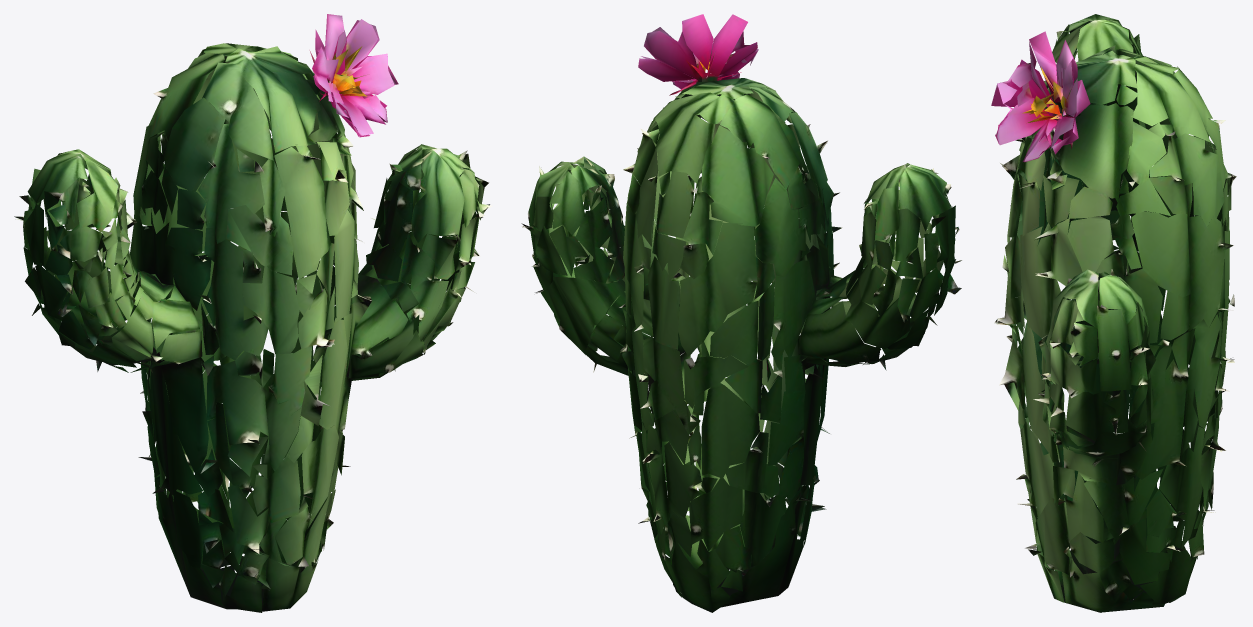
The model's file is tripo-cacto446a.glb.
3 renders of one model, left to right at view 1: azimuth 30°, elevation 25°; view 2: azimuth 150°, elevation 25°; view 3: azimuth 270°, elevation 25°, orthographic. The views are drawn at different scales.
Parts seen in each view (by area): view 1: tripo_node_6c5b0029-9636-41d0-8e47-199d0da720b2; view 2: tripo_node_6c5b0029-9636-41d0-8e47-199d0da720b2; view 3: tripo_node_6c5b0029-9636-41d0-8e47-199d0da720b2.
Boxes of the visible parts, left/top/right/bottom form: tripo_node_6c5b0029-9636-41d0-8e47-199d0da720b2: left=14, top=14, right=492, bottom=612; tripo_node_6c5b0029-9636-41d0-8e47-199d0da720b2: left=521, top=14, right=961, bottom=612; tripo_node_6c5b0029-9636-41d0-8e47-199d0da720b2: left=991, top=14, right=1236, bottom=612.
Size of the model in its own units: 0.7974 by 0.9797 by 0.3773.
Materials: 1 (1 with a texture image).
